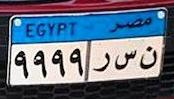9: (69, 48, 84, 77), (14, 50, 29, 79), (33, 49, 47, 78), (52, 49, 63, 77)
noon: (140, 45, 158, 69)
raa: (93, 52, 112, 74)
seen: (115, 48, 137, 70)
